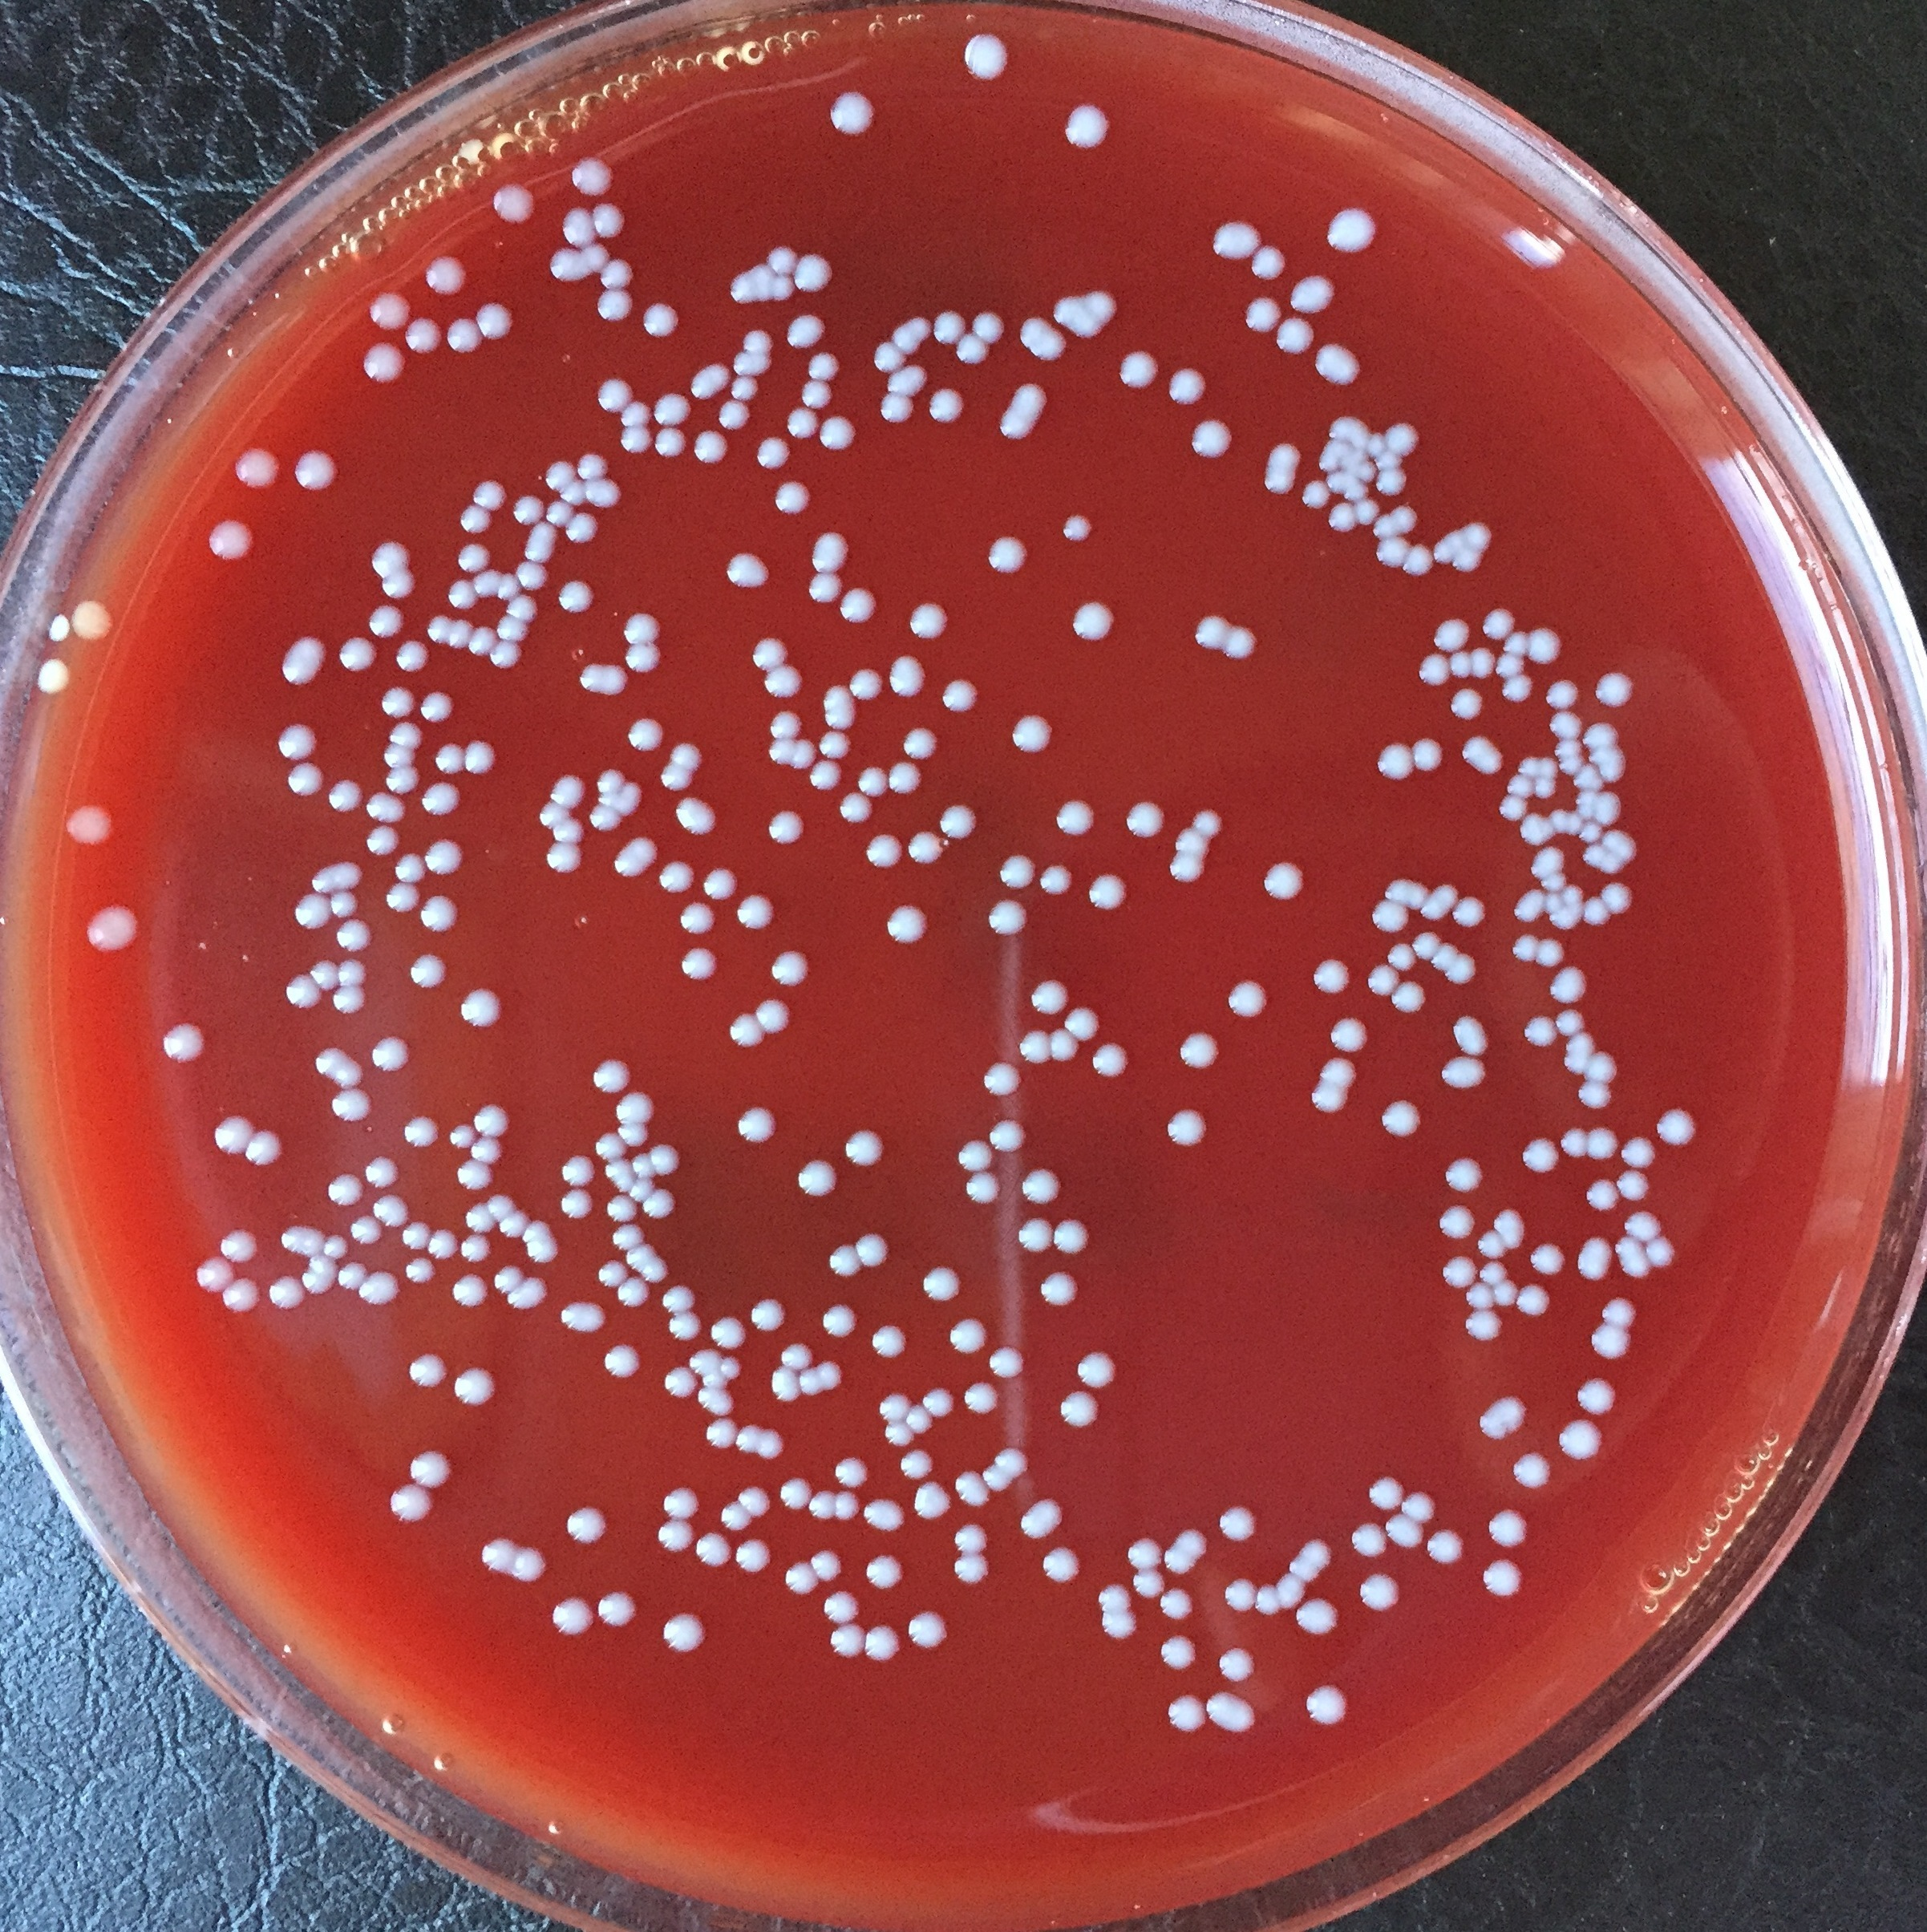sp22: (1320, 205, 1382, 261), (274, 632, 330, 690), (1470, 1392, 1533, 1443), (83, 903, 141, 955), (981, 529, 1034, 584), (1059, 101, 1115, 152), (962, 30, 1013, 85), (1015, 312, 1069, 362), (233, 443, 286, 492), (1159, 1526, 1212, 1576), (1203, 1687, 1258, 1734), (1285, 268, 1338, 316), (1553, 1417, 1608, 1463), (826, 90, 877, 138), (365, 288, 418, 333), (1311, 339, 1359, 388), (884, 900, 932, 949), (491, 180, 536, 231), (311, 1046, 365, 1089), (612, 835, 660, 882), (794, 1156, 842, 1203), (208, 517, 258, 563), (671, 792, 720, 838), (307, 857, 365, 896), (575, 662, 634, 700), (1459, 730, 1503, 782), (1211, 217, 1262, 261), (360, 342, 411, 386), (658, 1611, 711, 1653), (1304, 1681, 1348, 1731), (568, 155, 618, 199), (293, 450, 342, 494), (810, 526, 851, 579), (62, 808, 116, 847), (558, 1297, 612, 1336), (1218, 1501, 1263, 1547), (1188, 416, 1233, 462), (1020, 1496, 1068, 1540), (1653, 1106, 1701, 1150), (1221, 979, 1271, 1022), (422, 254, 471, 296), (724, 549, 773, 591), (1576, 1233, 1616, 1284), (386, 1482, 432, 1526), (905, 1606, 949, 1651), (1479, 1556, 1525, 1600), (1576, 1373, 1620, 1419), (1071, 600, 1117, 644), (863, 829, 907, 875), (565, 1501, 607, 1549), (1611, 1233, 1653, 1281), (919, 1263, 967, 1306), (944, 1314, 992, 1357), (162, 1022, 206, 1066), (369, 1032, 413, 1076), (1436, 1200, 1481, 1244), (1548, 962, 1592, 1006), (794, 252, 838, 296), (1011, 715, 1055, 759), (985, 1344, 1029, 1389), (69, 600, 115, 642), (1359, 1572, 1405, 1614), (1052, 796, 1098, 838), (1451, 1011, 1491, 1059), (888, 653, 928, 700), (1121, 801, 1170, 840), (985, 1119, 1034, 1157), (212, 1113, 254, 1157), (408, 1449, 452, 1491), (1276, 314, 1318, 358), (784, 311, 828, 353), (986, 895, 1031, 937), (981, 1059, 1025, 1101), (819, 1300, 863, 1343), (192, 1254, 238, 1295), (736, 1105, 782, 1145), (452, 1367, 498, 1408), (1588, 1322, 1634, 1362), (1262, 859, 1308, 900), (1075, 1348, 1121, 1389), (1165, 1110, 1212, 1149), (1440, 1055, 1489, 1092), (420, 778, 462, 820), (422, 835, 464, 877), (545, 769, 588, 812), (912, 1479, 955, 1521), (1166, 1692, 1209, 1734), (362, 789, 406, 829), (420, 891, 461, 935), (589, 1055, 634, 1096), (1039, 1547, 1083, 1588), (1166, 367, 1211, 408), (558, 205, 598, 249), (762, 662, 806, 702), (995, 850, 1039, 891), (1038, 1269, 1082, 1309), (992, 402, 1038, 441), (459, 988, 505, 1027), (217, 1226, 263, 1265), (1293, 1599, 1339, 1637), (1309, 958, 1355, 997), (1378, 1099, 1424, 1138), (367, 538, 413, 577), (1018, 1166, 1064, 1205), (480, 1535, 517, 1583), (1368, 900, 1415, 937), (688, 362, 736, 399), (337, 635, 379, 676), (291, 891, 334, 932), (408, 1352, 448, 1394), (552, 1595, 595, 1636), (731, 1537, 773, 1577), (951, 1468, 993, 1509), (1488, 1507, 1528, 1549), (1179, 1030, 1221, 1071), (1117, 351, 1159, 392), (817, 413, 859, 453), (443, 316, 485, 356), (625, 713, 667, 753), (939, 799, 979, 842), (754, 999, 796, 1039), (1091, 1039, 1131, 1082), (1382, 877, 1433, 910), (404, 951, 448, 990), (1216, 1644, 1260, 1683), (1382, 1512, 1426, 1551), (748, 635, 792, 674), (768, 949, 812, 988), (1048, 1216, 1092, 1254), (851, 1232, 895, 1270), (1059, 1389, 1103, 1427), (274, 722, 319, 759), (328, 1087, 374, 1124), (468, 1103, 514, 1140), (861, 1496, 907, 1533), (1592, 670, 1638, 708), (824, 676, 854, 732), (355, 1270, 402, 1306), (522, 520, 563, 561), (1248, 242, 1288, 282), (588, 198, 628, 238), (838, 586, 879, 626), (679, 944, 720, 985), (1046, 1025, 1087, 1066), (596, 1588, 639, 1627), (473, 302, 515, 341), (768, 808, 810, 847), (242, 1127, 286, 1164), (1422, 1526, 1466, 1563), (1440, 1254, 1484, 1292), (1491, 1207, 1528, 1251), (1443, 1156, 1488, 1193), (844, 1129, 888, 1166), (282, 974, 323, 1013), (602, 1341, 642, 1380), (822, 1588, 863, 1627), (953, 1549, 993, 1588), (1159, 1632, 1198, 1673), (1514, 1450, 1553, 1491), (1530, 1239, 1569, 1279), (1521, 1136, 1562, 1175), (1613, 1166, 1653, 1205), (1219, 625, 1260, 663), (1244, 293, 1283, 333), (953, 330, 992, 371), (928, 385, 967, 425), (775, 476, 814, 517), (909, 600, 948, 640), (734, 891, 775, 930), (907, 827, 948, 866), (371, 1193, 413, 1230), (222, 1279, 265, 1316), (708, 1314, 750, 1352), (1085, 873, 1128, 910), (582, 473, 625, 510), (556, 579, 598, 616), (1061, 1004, 1103, 1041), (508, 1277, 552, 1313), (418, 688, 457, 727), (1431, 616, 1470, 655), (552, 247, 591, 286), (1011, 379, 1052, 416), (35, 655, 72, 695), (365, 602, 406, 639), (454, 1156, 494, 1193), (452, 1272, 489, 1313), (614, 1089, 655, 1126), (746, 1297, 787, 1334), (695, 1531, 736, 1569), (861, 1625, 902, 1662), (1350, 1521, 1387, 1561), (1387, 979, 1428, 1016), (1376, 741, 1413, 782), (1523, 626, 1563, 663), (932, 309, 969, 349), (872, 341, 912, 378), (593, 376, 634, 413), (514, 556, 554, 593), (806, 568, 847, 605), (678, 898, 718, 935), (941, 678, 981, 715), (965, 1168, 1002, 1209), (462, 736, 498, 778), (695, 1385, 738, 1420), (1461, 1304, 1503, 1339), (598, 783, 648, 813), (279, 1224, 323, 1258), (771, 1362, 805, 1406), (385, 879, 422, 917), (656, 1516, 695, 1553), (736, 1482, 773, 1521), (1158, 1584, 1195, 1623), (1368, 1473, 1406, 1510), (1599, 1293, 1638, 1330), (1331, 1016, 1369, 1053), (1193, 614, 1232, 651), (1373, 533, 1412, 570), (595, 286, 634, 323), (658, 857, 695, 896), (1039, 861, 1076, 900), (1018, 1216, 1055, 1254), (824, 1244, 863, 1281), (1329, 411, 1369, 446), (334, 919, 374, 955), (865, 1553, 905, 1588), (1099, 1607, 1140, 1643), (1581, 1177, 1622, 1212), (1576, 1078, 1616, 1113), (1308, 1082, 1348, 1117), (1408, 734, 1443, 775), (641, 302, 681, 337), (1122, 1537, 1165, 1570), (1526, 845, 1569, 879), (886, 363, 930, 395), (378, 739, 422, 771), (1581, 720, 1625, 752), (326, 1170, 364, 1207), (784, 1560, 821, 1597), (1385, 420, 1422, 457), (1461, 517, 1498, 554), (971, 309, 1008, 346), (653, 392, 690, 429), (457, 501, 494, 538), (836, 790, 874, 827), (888, 760, 925, 798), (1031, 977, 1068, 1015), (956, 1136, 993, 1173), (394, 639, 432, 674), (616, 1274, 655, 1309), (665, 1306, 704, 1341), (662, 1486, 701, 1521), (716, 1500, 755, 1535), (1645, 1232, 1680, 1270), (754, 434, 792, 469), (651, 423, 690, 459), (471, 476, 510, 512), (625, 640, 664, 676), (902, 725, 941, 760), (729, 1013, 768, 1048), (1588, 746, 1629, 780), (1622, 1207, 1662, 1240), (1318, 1057, 1359, 1090), (1496, 670, 1537, 704), (1403, 540, 1436, 580), (379, 568, 420, 602), (623, 610, 664, 644), (288, 762, 323, 799), (402, 1113, 439, 1149), (364, 1156, 401, 1191), (559, 1152, 596, 1187), (611, 1217, 646, 1254), (810, 1547, 845, 1584), (828, 1623, 863, 1660), (1223, 1577, 1258, 1614), (1514, 1283, 1549, 1320), (1523, 1015, 1560, 1050), (1168, 852, 1205, 887), (1452, 895, 1489, 930), (1599, 880, 1634, 917), (1481, 607, 1518, 642), (1375, 466, 1412, 501), (784, 404, 819, 441), (404, 318, 439, 355), (455, 538, 492, 573), (669, 738, 704, 775), (702, 865, 739, 900), (808, 757, 844, 794), (872, 1323, 907, 1360), (602, 1193, 641, 1226), (898, 1447, 937, 1480), (1544, 708, 1583, 741), (1593, 789, 1627, 827), (962, 1376, 995, 1415), (1258, 443, 1304, 471), (381, 766, 422, 798), (544, 842, 584, 873), (432, 741, 468, 776), (268, 1276, 304, 1311), (459, 1232, 494, 1267), (464, 1202, 499, 1237), (835, 1456, 870, 1491), (1585, 1124, 1620, 1159), (1583, 1050, 1618, 1085), (1191, 806, 1226, 842), (806, 348, 842, 383), (496, 612, 531, 648), (856, 764, 891, 799), (768, 706, 803, 741), (1069, 309, 1106, 342), (378, 685, 415, 718), (326, 778, 364, 812), (388, 718, 425, 752), (330, 985, 367, 1018), (551, 815, 588, 849), (778, 1477, 812, 1514), (993, 1445, 1031, 1479), (1129, 1567, 1166, 1600), (1364, 963, 1401, 997), (1618, 1136, 1655, 1170), (1447, 688, 1484, 722), (1514, 889, 1548, 926), (1544, 678, 1581, 711), (1415, 651, 1449, 688), (1059, 510, 1096, 543), (598, 258, 635, 291), (694, 429, 731, 462), (759, 245, 798, 277), (1050, 291, 1082, 330), (656, 762, 695, 794), (817, 729, 856, 760), (1173, 827, 1214, 857), (1082, 289, 1117, 323), (1518, 812, 1551, 847), (588, 801, 623, 835), (334, 1258, 369, 1292), (559, 1186, 595, 1219), (605, 1156, 639, 1191), (704, 1419, 739, 1452), (921, 1387, 956, 1420), (1399, 1487, 1435, 1521), (1579, 893, 1613, 928), (1466, 644, 1500, 679), (799, 376, 833, 411), (466, 626, 499, 662), (489, 639, 522, 674), (1018, 1027, 1052, 1062), (364, 824, 401, 856), (536, 799, 574, 831), (402, 1256, 439, 1288), (469, 1134, 506, 1166), (591, 1133, 628, 1164), (641, 1186, 678, 1217), (953, 1521, 990, 1553), (445, 579, 482, 610), (734, 349, 778, 376), (660, 1283, 699, 1313), (1253, 1581, 1283, 1620), (877, 393, 916, 423), (394, 852, 427, 886), (664, 1366, 697, 1399), (879, 1392, 912, 1426), (1443, 955, 1477, 988), (1325, 501, 1359, 535), (619, 422, 653, 455), (494, 570, 528, 603), (334, 958, 369, 990), (349, 1212, 385, 1244), (424, 1228, 459, 1260), (651, 1143, 683, 1179), (755, 1426, 787, 1461), (688, 1344, 724, 1376), (1475, 1226, 1511, 1258), (1532, 935, 1567, 967), (1496, 794, 1532, 826), (715, 399, 750, 431), (739, 326, 775, 358), (443, 616, 475, 651), (849, 667, 884, 699), (796, 1364, 826, 1401), (729, 266, 757, 305), (595, 1256, 628, 1288), (1553, 1007, 1586, 1039), (512, 492, 545, 524), (505, 591, 538, 623), (326, 889, 362, 919), (309, 958, 339, 993), (814, 1355, 844, 1390), (833, 1487, 863, 1523), (1262, 468, 1297, 498), (791, 736, 819, 773), (1435, 526, 1466, 558), (494, 1203, 526, 1235), (628, 1147, 660, 1179), (902, 1403, 934, 1434), (1301, 480, 1332, 512), (545, 461, 577, 492), (1511, 932, 1541, 965), (1383, 942, 1417, 972), (1410, 932, 1443, 962), (1505, 771, 1539, 801), (1445, 649, 1475, 683), (566, 512, 600, 542), (559, 480, 593, 510), (1604, 829, 1639, 857), (526, 1235, 561, 1263), (593, 768, 628, 796), (492, 1265, 528, 1293), (575, 450, 611, 478), (889, 325, 921, 355), (402, 1219, 434, 1249), (485, 1191, 517, 1221), (1352, 496, 1382, 528), (1288, 1556, 1322, 1584), (778, 1341, 812, 1369), (808, 1487, 836, 1521), (1558, 1126, 1586, 1159), (881, 1420, 916, 1447), (983, 1463, 1013, 1493), (1301, 1537, 1331, 1567), (768, 736, 798, 766), (519, 1214, 551, 1242), (1465, 1281, 1496, 1309), (1391, 503, 1419, 535), (771, 272, 799, 303), (731, 376, 762, 404), (619, 399, 651, 427), (616, 1122, 649, 1149), (625, 1244, 660, 1269), (517, 1547, 542, 1583), (1318, 441, 1346, 471), (321, 1230, 349, 1260), (448, 1122, 478, 1150), (475, 566, 501, 598), (1098, 1581, 1129, 1607), (715, 1350, 741, 1382), (736, 1422, 761, 1456), (427, 614, 452, 648), (1563, 1048, 1592, 1076), (1431, 942, 1458, 972), (1491, 1276, 1518, 1306), (544, 498, 574, 524), (588, 240, 612, 272), (1452, 552, 1489, 573), (639, 1258, 671, 1283), (1279, 1576, 1302, 1609), (1537, 872, 1571, 895), (1551, 738, 1585, 760), (44, 614, 71, 642), (1496, 653, 1526, 678), (1574, 762, 1604, 787), (1477, 1260, 1507, 1284), (1576, 819, 1606, 843), (1369, 515, 1394, 545), (1553, 753, 1585, 776), (1565, 1032, 1599, 1053), (1431, 882, 1459, 907), (1325, 471, 1355, 494), (1502, 630, 1528, 655), (1549, 909, 1576, 933), (905, 314, 932, 339), (1533, 776, 1562, 799), (755, 277, 775, 309), (632, 1179, 656, 1202), (750, 261, 776, 282), (1421, 903, 1447, 923), (1551, 810, 1569, 838), (1602, 854, 1625, 875), (1583, 843, 1602, 868), (1343, 483, 1373, 499), (1375, 452, 1405, 468), (1539, 755, 1558, 776), (1366, 432, 1383, 455), (1565, 886, 1583, 909), (1518, 755, 1541, 771), (1361, 462, 1376, 483), (1569, 812, 1581, 838), (1576, 790, 1599, 805), (1548, 895, 1563, 912), (1574, 805, 1592, 817)
